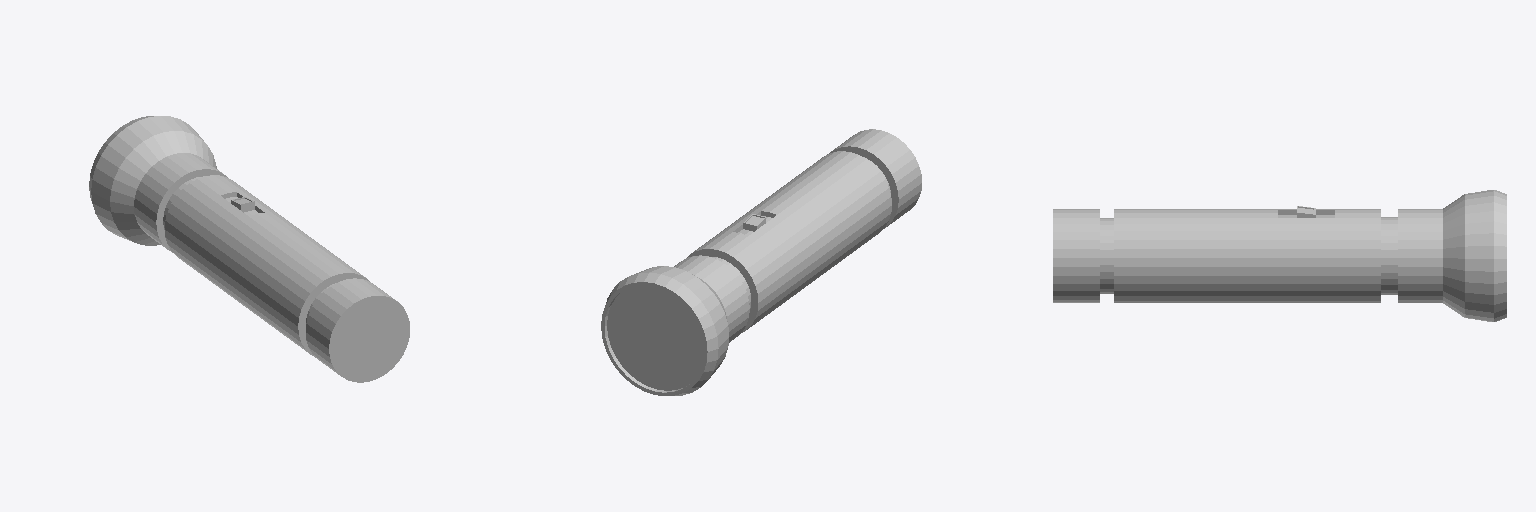
File: flashlight.obj
3 renders of one model, left to right at view 1: azimuth 30°, elevation 25°; view 2: azimuth 150°, elevation 25°; view 3: azimuth 270°, elevation 25°, orthographic.
Visible parts, largest first — view 1: Cilindro; view 2: Cilindro; view 3: Cilindro.
Boxes of the visible parts, x1,y1,x2,y2 form: Cilindro: [89, 116, 409, 382]; Cilindro: [601, 129, 921, 395]; Cilindro: [1053, 190, 1506, 321].
Size of the model in its own units: 2.84 by 2.84 by 9.69.